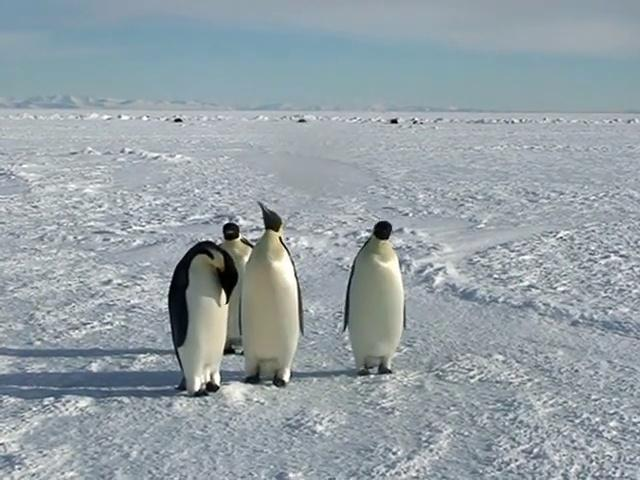animal: (345, 222, 406, 375)
